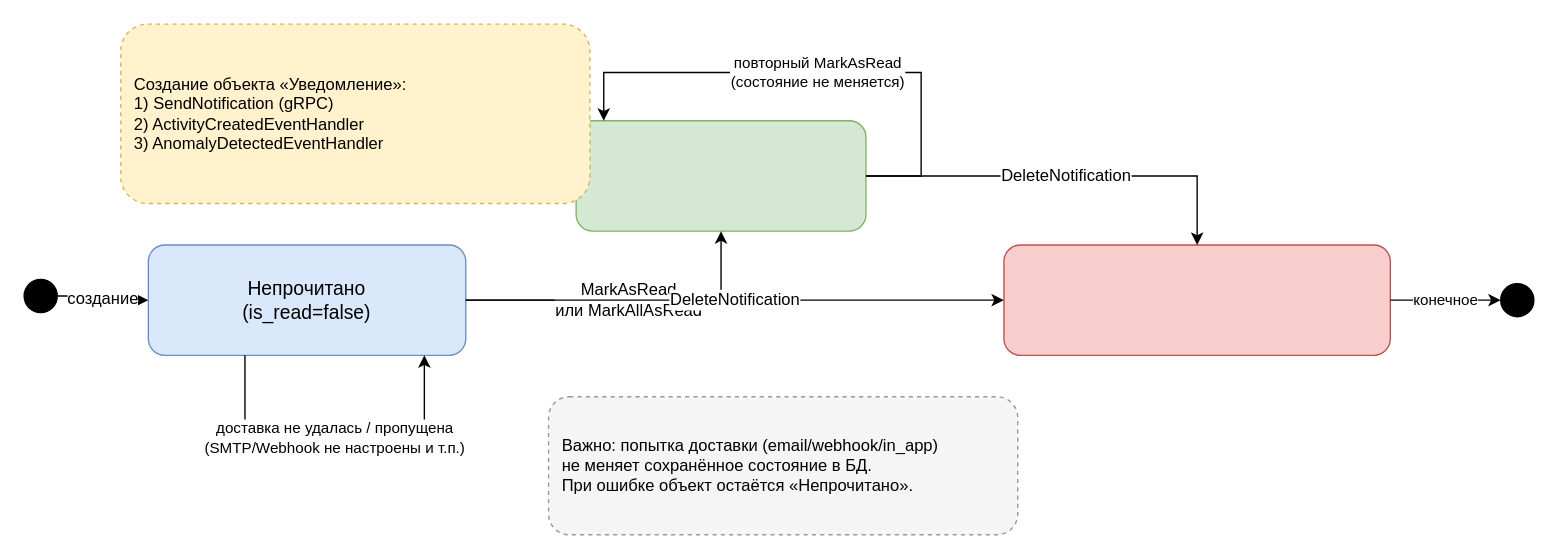
Some shapes in this 1558 by 559 pixel diagram are drawn without their labels. Here are the shapes that lost their labels. From the top down, the centre of each, then its label:
point 720,175: Прочитано (is_read=true)
point 1196,299: Удалено (запись удалена из notifications)
